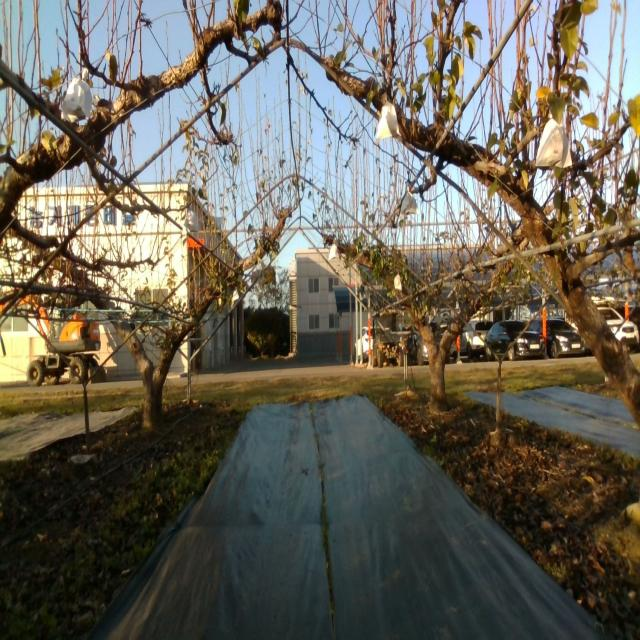pearbags: (534, 117, 572, 169), (61, 66, 92, 124), (376, 101, 402, 141), (400, 187, 419, 217), (182, 210, 199, 236), (328, 244, 339, 262)
